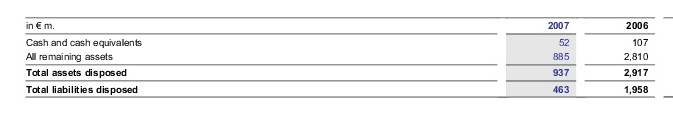table: (0, 0, 673, 120)
